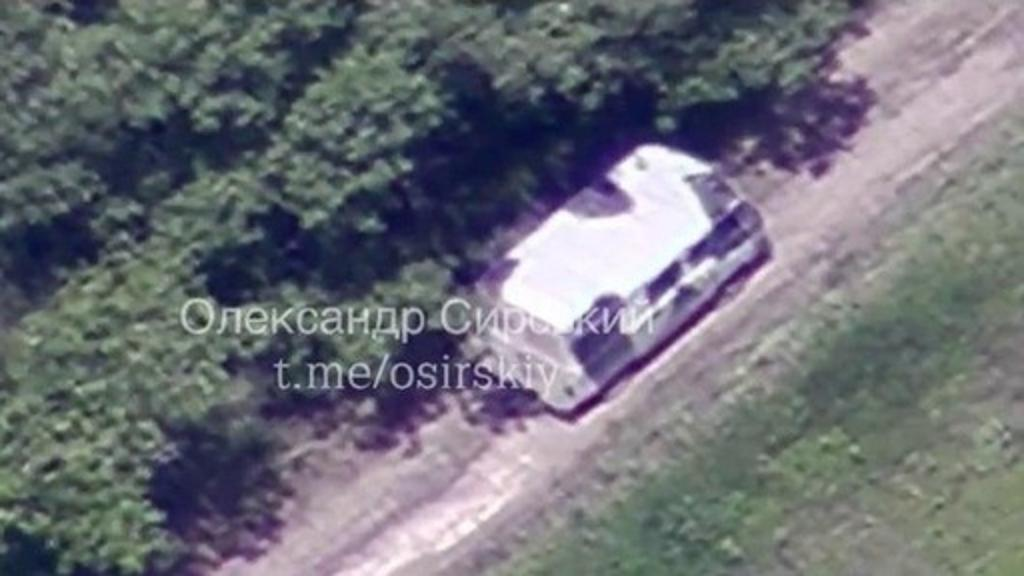CAR: (454, 134, 772, 418)
